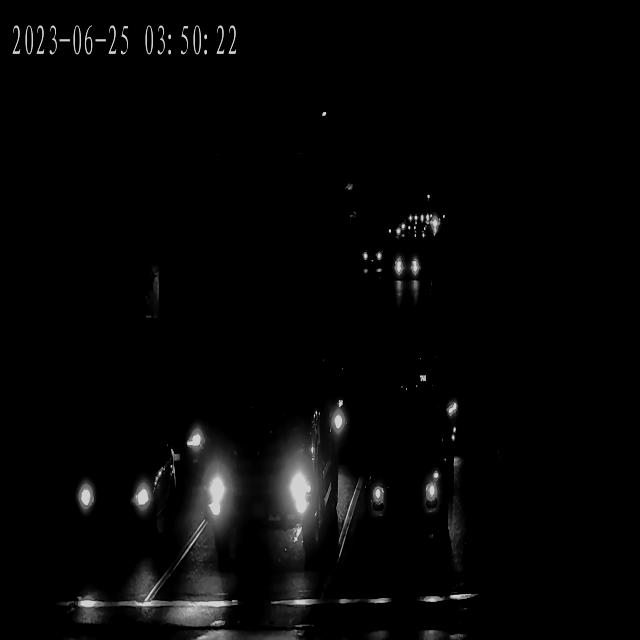Car: (195, 419, 321, 529), (57, 435, 177, 545), (361, 441, 453, 535), (291, 353, 355, 461), (402, 342, 470, 442), (394, 252, 425, 286), (358, 238, 384, 267), (384, 223, 403, 237), (422, 219, 439, 234), (423, 218, 441, 232), (382, 222, 398, 237), (385, 226, 402, 240), (406, 218, 420, 234)
